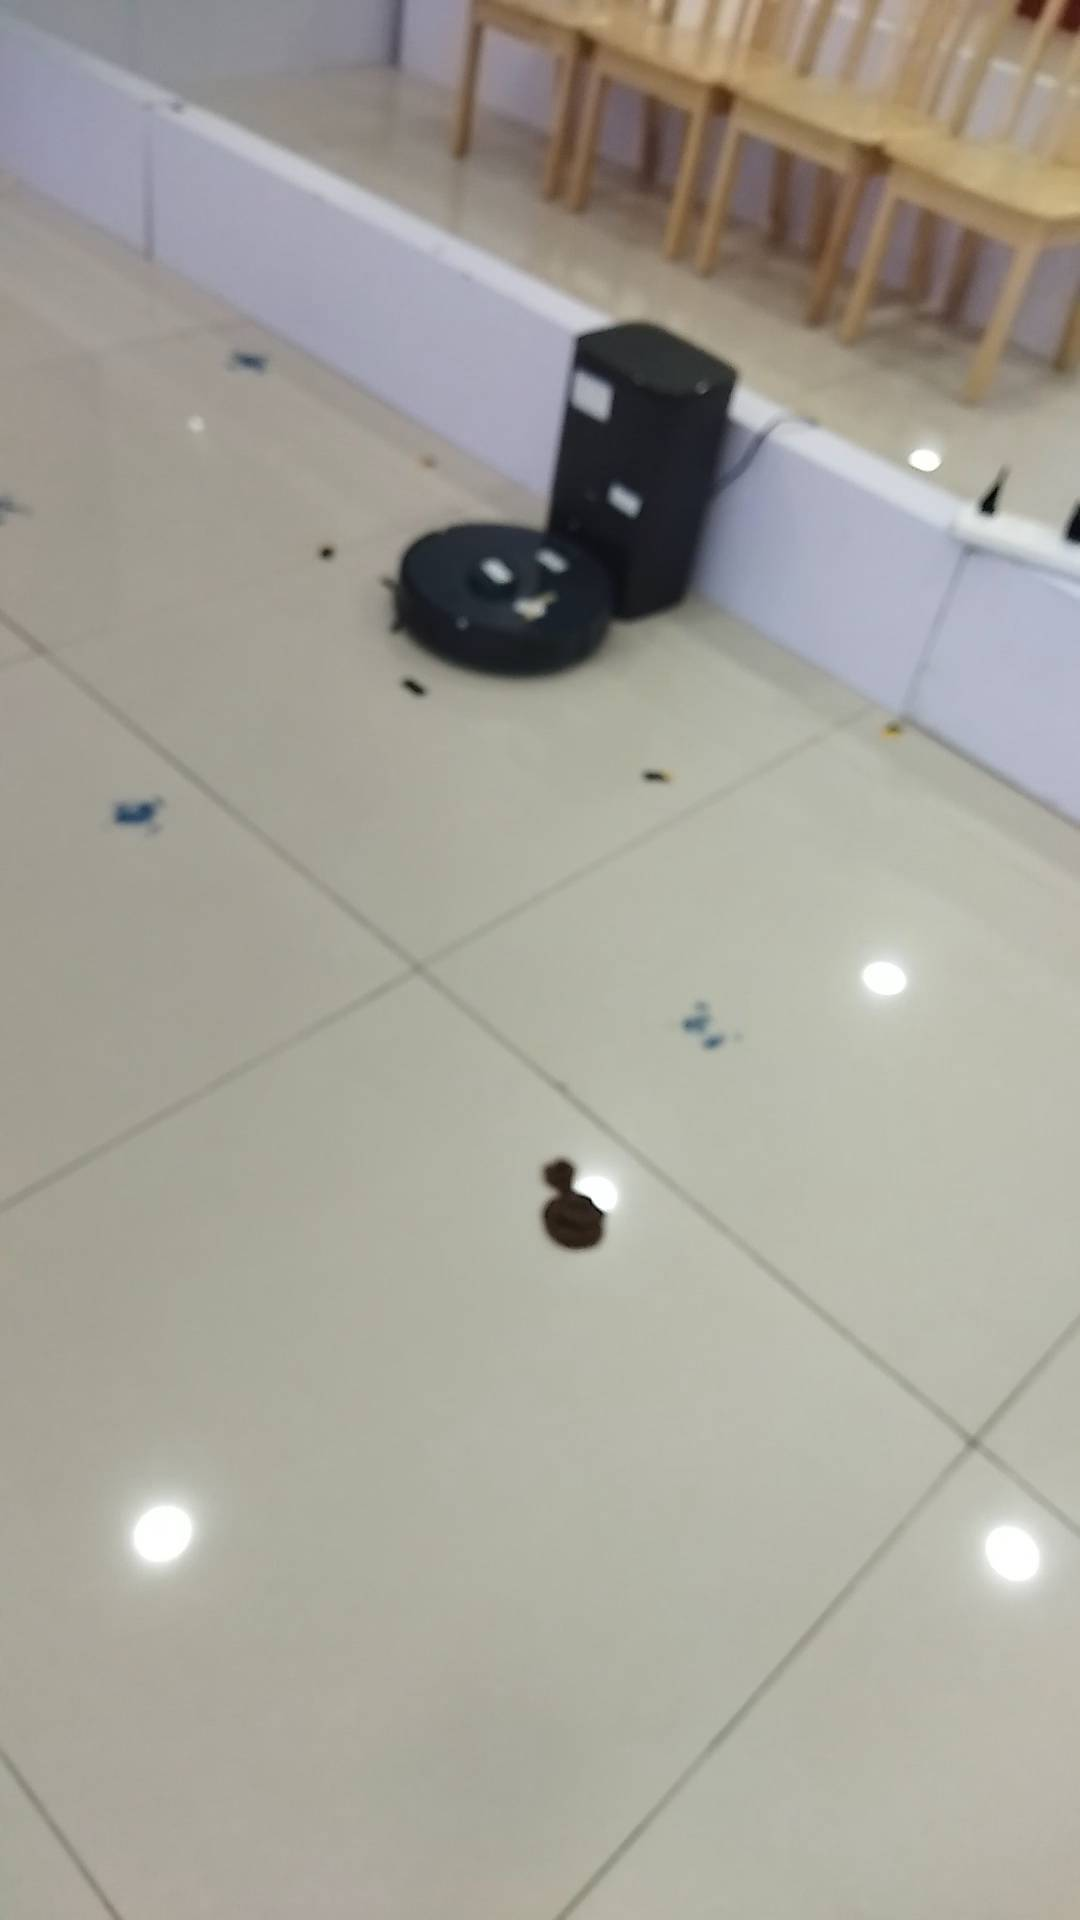dust collecting barrel: (546, 320, 737, 621)
